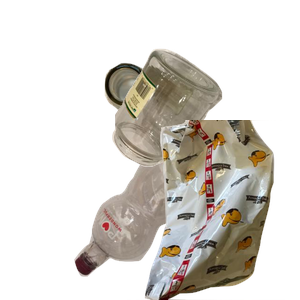glass: (110, 46, 300, 205)
metal: (102, 60, 252, 169)
plastic: (72, 142, 273, 300)
trash: (127, 120, 300, 300)
